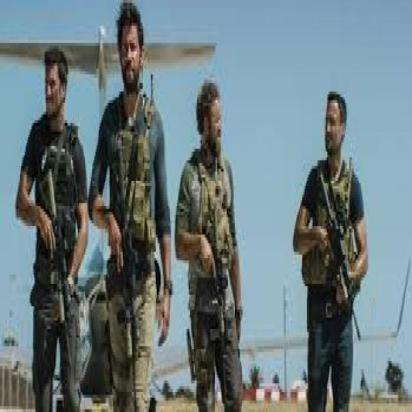Gun: (106, 132, 139, 412), (312, 165, 362, 342), (194, 201, 231, 403), (38, 174, 74, 367)
